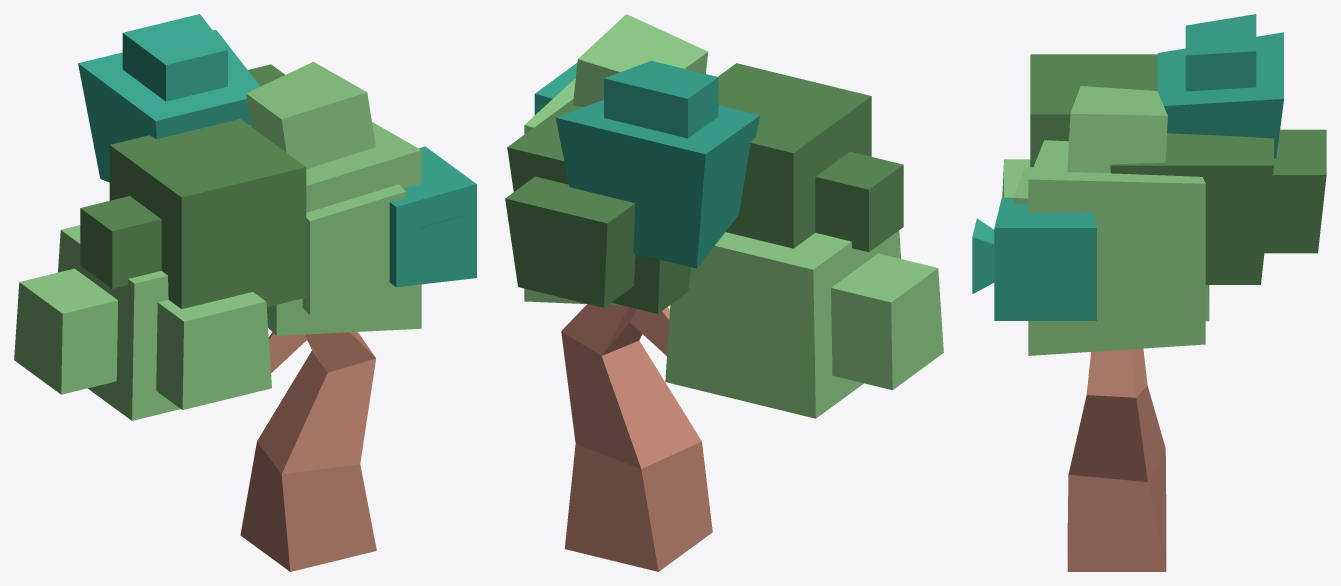
Rendered from tree2.fbx.
3 views of the same model, side by side, from view 1: azimuth 30°, elevation 25°; view 2: azimuth 150°, elevation 25°; view 3: azimuth 270°, elevation 25° (orthographic). The views are drawn at different scales.
Parts seen in each view (by area): view 1: tree2; view 2: tree2; view 3: tree2.
Part boxes in pixels (bbox=[...]): tree2: bbox=[14, 14, 476, 571]; tree2: bbox=[505, 14, 943, 571]; tree2: bbox=[972, 14, 1326, 571].
Bounding box in the file's own units: 235 × 295 × 197.
